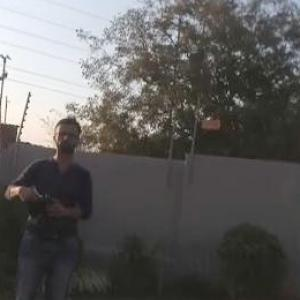follow: (0, 110, 96, 299)
